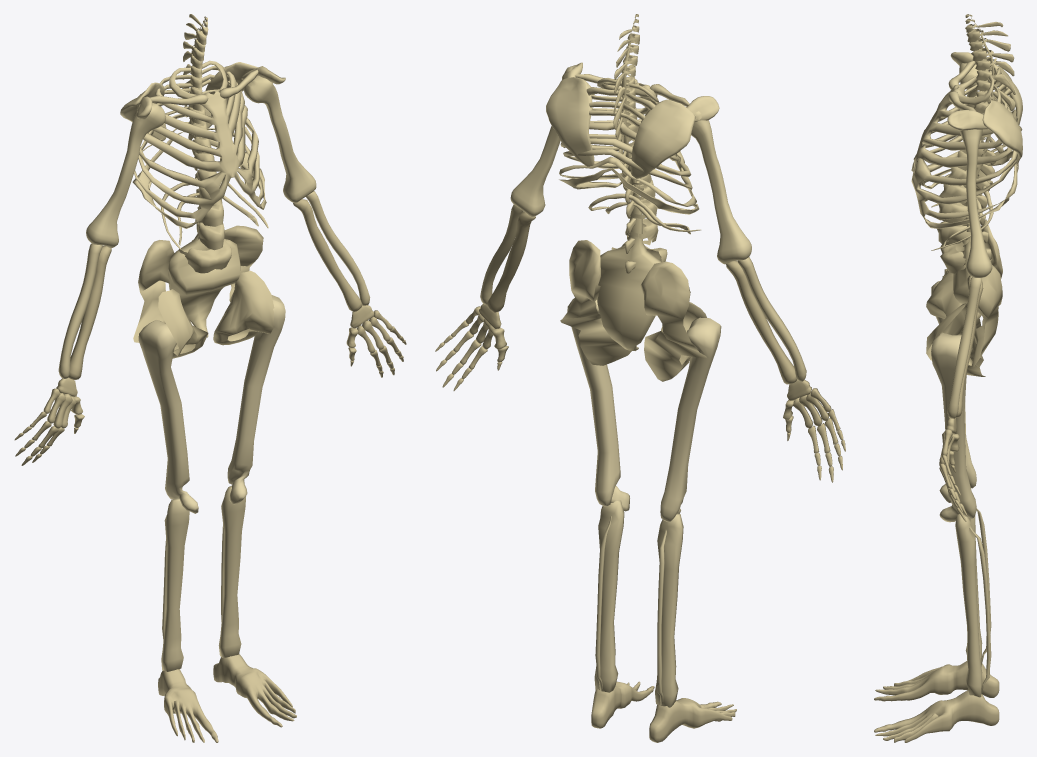
File: restofskeletonsaur.fbx
3 views of the same model, side by side, from view 1: azimuth 30°, elevation 25°; view 2: azimuth 150°, elevation 25°; view 3: azimuth 270°, elevation 25° (orthographic). The views are drawn at different scales.
Parts seen in each view (by area): view 1: Rib Cage, Femur, Ilium, Tibia, Humerus, Feet, Spine2, Cube, spine, Ulna, Radius, Clavicle And Shoulder; view 2: Ilium, Femur, Tibia, Clavicle And Shoulder, Rib Cage, spine, Cube, Humerus, Feet, Spine2, Ulna, Radius; view 3: Rib Cage, Feet, Spine2, Ilium, Tibia, Femur, Clavicle And Shoulder, Humerus, Radius, Cube, spine, Ulna.
Boxes of the visible parts, x1,y1,x2,y2 form: Rib Cage: (132,60,268,249); Femur: (138,295,285,513); Ilium: (133,225,274,358); Tibia: (161,485,245,671); Humerus: (86,75,316,248); Feet: (158,654,296,742); Spine2: (179,14,231,273); Cube: (14,305,406,465); spine: (168,16,240,337); Ulna: (69,199,362,379); Radius: (58,191,370,378); Clavicle And Shoulder: (120,62,285,141); Ilium: (560,240,706,381); Femur: (567,298,721,521); Tibia: (594,500,683,707); Clavicle And Shoulder: (546,62,719,178); Rib Cage: (559,78,700,234); spine: (597,14,661,350); Cube: (435,304,845,482); Humerus: (510,80,751,264); Feet: (591,681,736,742); Spine2: (611,14,667,273); Ulna: (487,211,796,384); Radius: (480,204,806,381); Rib Cage: (911,65,1022,250); Feet: (874,661,999,742); Spine2: (937,14,1015,273); Ilium: (926,219,1002,376); Tibia: (955,508,991,697); Femur: (931,281,976,522); Clavicle And Shoulder: (947,52,1022,164); Humerus: (959,63,992,277); Radius: (948,277,981,418); Cube: (939,269,967,521); spine: (953,14,998,322); Ulna: (947,187,983,417).
Bounding box in the file's own units: 832 × 1388 × 266.
